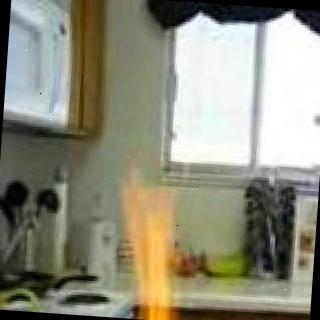fire: (108, 158, 261, 320)
